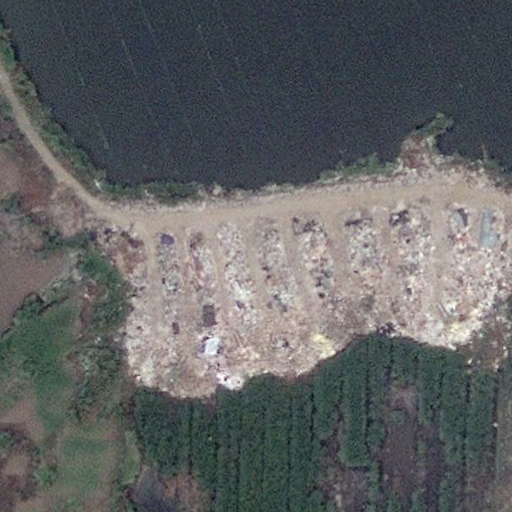msw: (119, 203, 512, 394)
